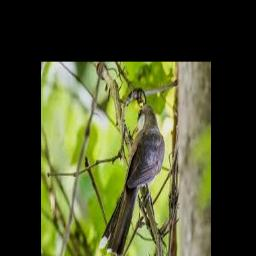Cuckoo: (98, 104, 165, 256)
